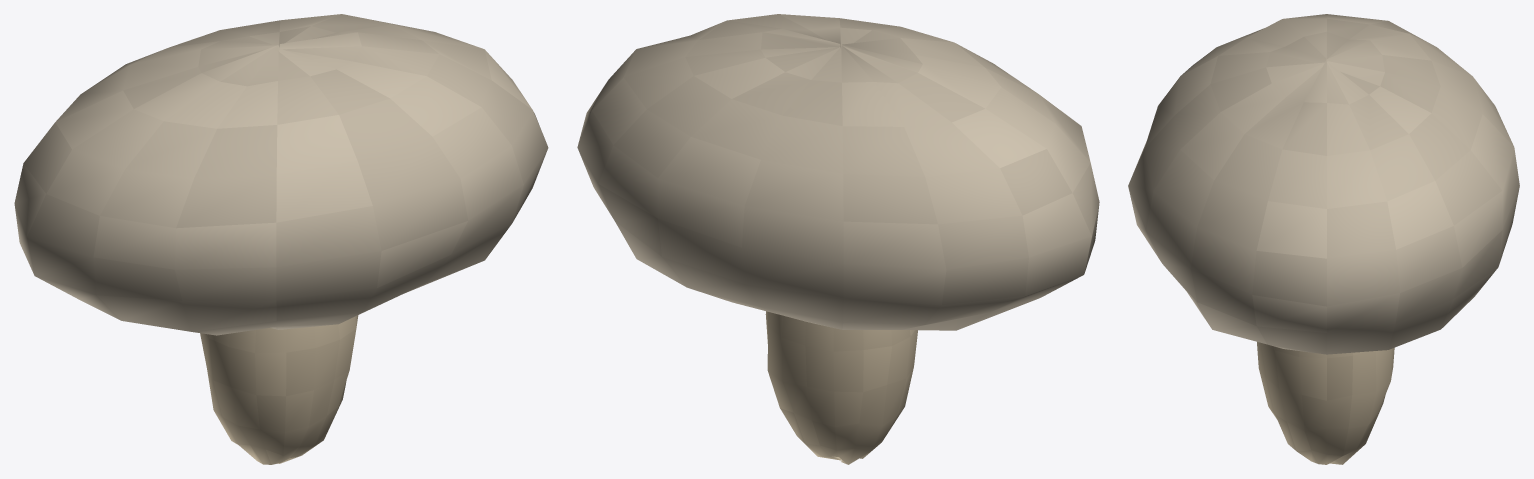
The model's file is ButtonMushroom.glb.
The picture shows the model from 3 angles, left to right: view 1: azimuth 30°, elevation 25°; view 2: azimuth 150°, elevation 25°; view 3: azimuth 270°, elevation 25°; orthographic projection. The views are drawn at different scales.
Parts seen in each view (by area): view 1: ButtonMushroom; view 2: ButtonMushroom; view 3: ButtonMushroom.
Part boxes in pixels (left/top/right/bottom): ButtonMushroom: left=14, top=14, right=548, bottom=464; ButtonMushroom: left=577, top=14, right=1099, bottom=464; ButtonMushroom: left=1128, top=14, right=1519, bottom=464.
Size of what is drawn, in the model's own units: 0.0878 by 0.0693 by 0.0606.
